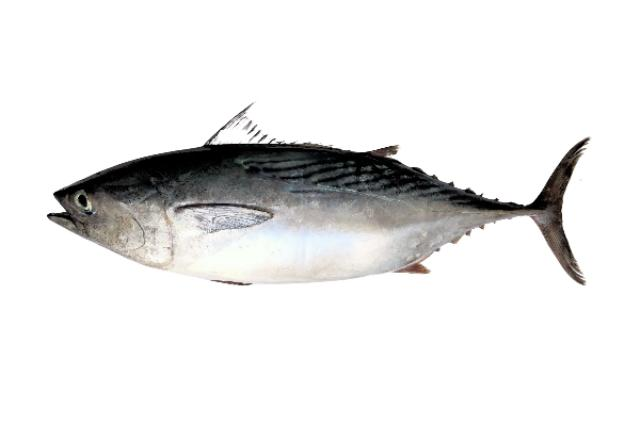Mulut: (32, 174, 98, 255)
Sirip Anal: (390, 248, 440, 290)
Sirip Dada: (175, 195, 279, 239)
Sirip Ekor: (526, 126, 604, 300)
Sirip Perut: (207, 268, 261, 298)
Sirip Punggung: (193, 88, 411, 160)
